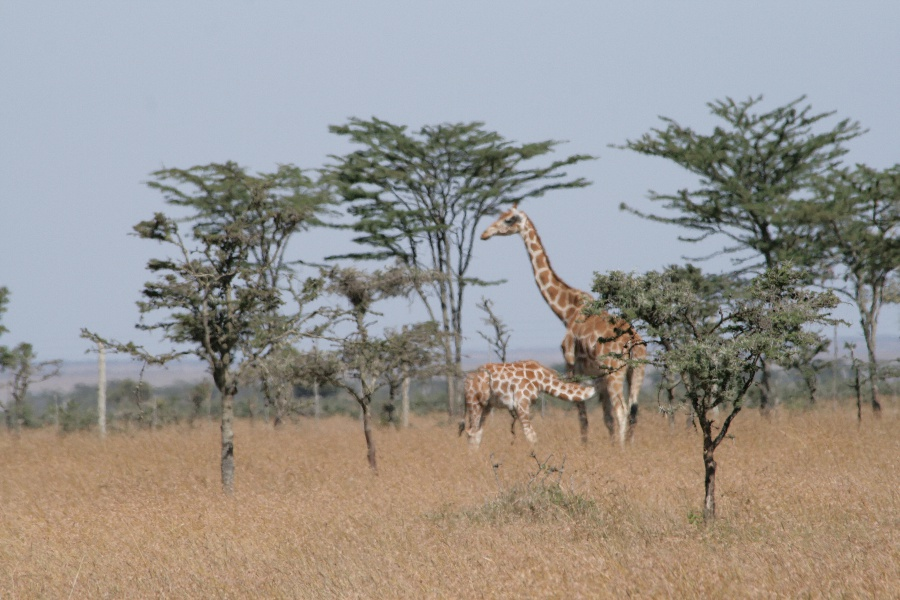giraffe: (478, 193, 657, 443), (453, 356, 603, 457)
